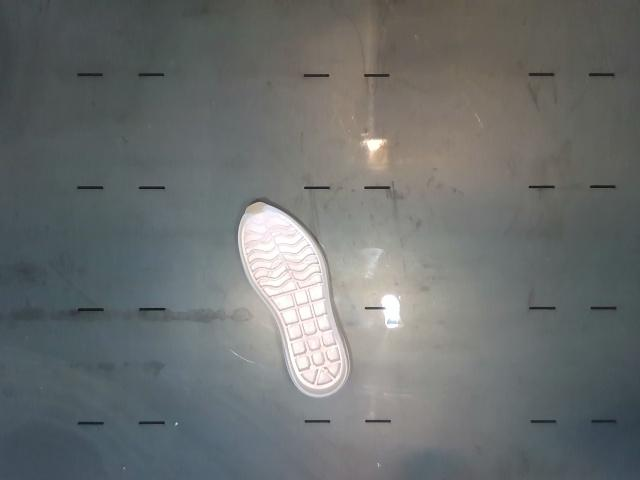shoes: (239, 203, 346, 395)
